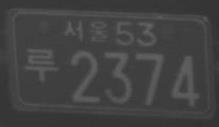2: (68, 48, 101, 104)
3: (101, 49, 132, 104), (135, 19, 158, 48)
4: (169, 54, 200, 107)
5: (113, 19, 135, 47)
7: (133, 51, 165, 106)
루: (22, 46, 60, 83)
서울_O: (61, 17, 110, 44)
